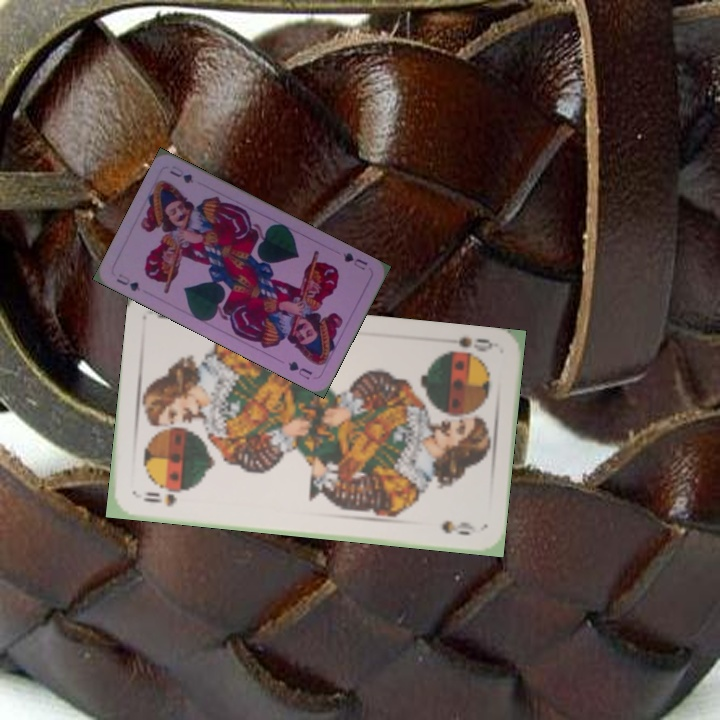GU: (112, 270, 143, 294), (339, 249, 370, 272)
SO: (454, 333, 496, 354), (139, 488, 179, 509)
